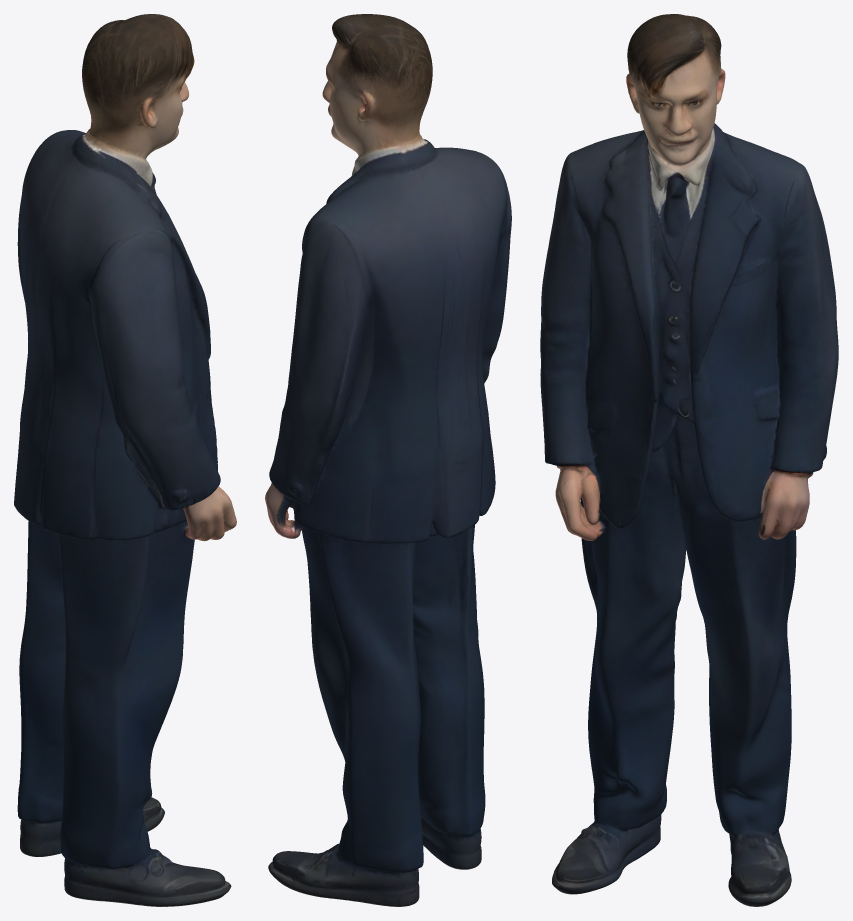
Rendered from alan-turing.glb.
The picture shows the model from 3 angles, left to right: view 1: azimuth 30°, elevation 25°; view 2: azimuth 150°, elevation 25°; view 3: azimuth 270°, elevation 25°; orthographic projection. The views are drawn at different scales.
Parts seen in each view (by area): view 1: tripo_node_16b659ee-7a4f-4103-9284-08ffe7cb73cf; view 2: tripo_node_16b659ee-7a4f-4103-9284-08ffe7cb73cf; view 3: tripo_node_16b659ee-7a4f-4103-9284-08ffe7cb73cf.
Part boxes in pixels (left/top/right/bottom): tripo_node_16b659ee-7a4f-4103-9284-08ffe7cb73cf: left=14, top=14, right=236, bottom=906; tripo_node_16b659ee-7a4f-4103-9284-08ffe7cb73cf: left=265, top=14, right=511, bottom=906; tripo_node_16b659ee-7a4f-4103-9284-08ffe7cb73cf: left=540, top=14, right=838, bottom=906.
Bounding box in the file's own units: 0.2117 × 0.9999 × 0.3151.
Materials: 1 (1 with a texture image).
